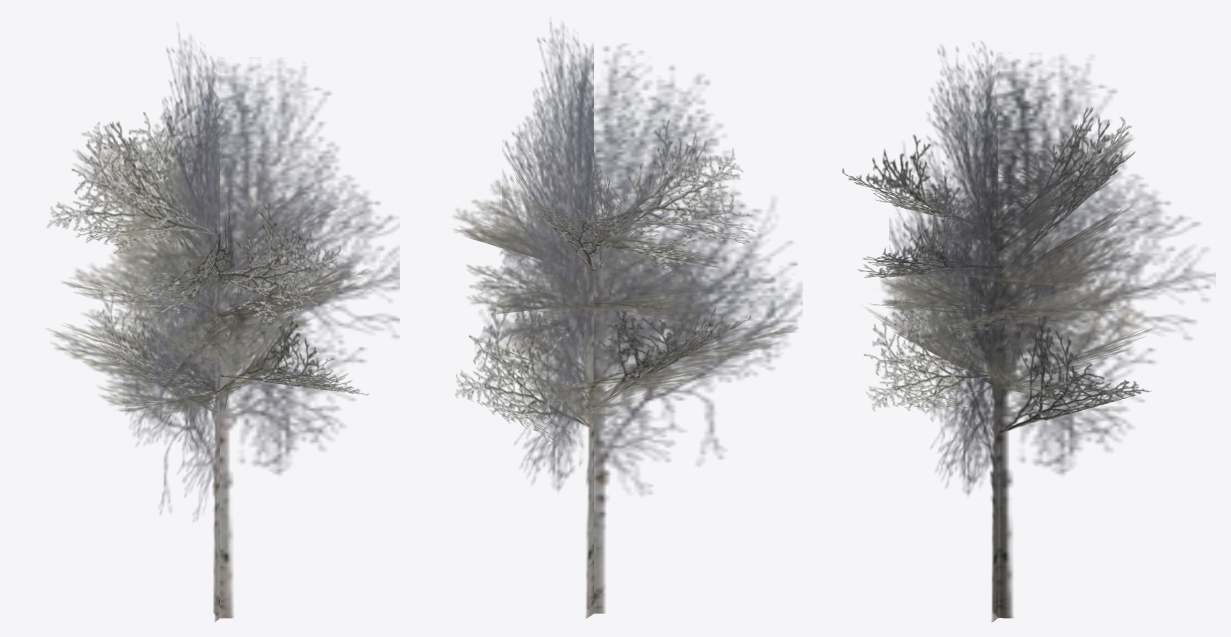
Rendered from wtree_i.glb.
3 renders of one model, left to right at view 1: azimuth 30°, elevation 25°; view 2: azimuth 150°, elevation 25°; view 3: azimuth 270°, elevation 25°, orthographic.
Visible parts, largest first — view 1: Winter_Trees_Planes.009, Winter_Trees_Branches.013; view 2: Winter_Trees_Planes.009, Winter_Trees_Branches.013; view 3: Winter_Trees_Planes.009, Winter_Trees_Branches.013.
Boxes of the visible parts, <box> form: Winter_Trees_Planes.009: <box>123,34,399,621</box>; Winter_Trees_Branches.013: <box>46,99,373,415</box>; Winter_Trees_Planes.009: <box>475,22,802,618</box>; Winter_Trees_Branches.013: <box>453,120,798,443</box>; Winter_Trees_Planes.009: <box>889,42,1215,622</box>; Winter_Trees_Branches.013: <box>842,106,1156,433</box>.
Bounding box in the file's own units: 5.2 × 9.15 × 5.65.
2 materials, 2 textured.
